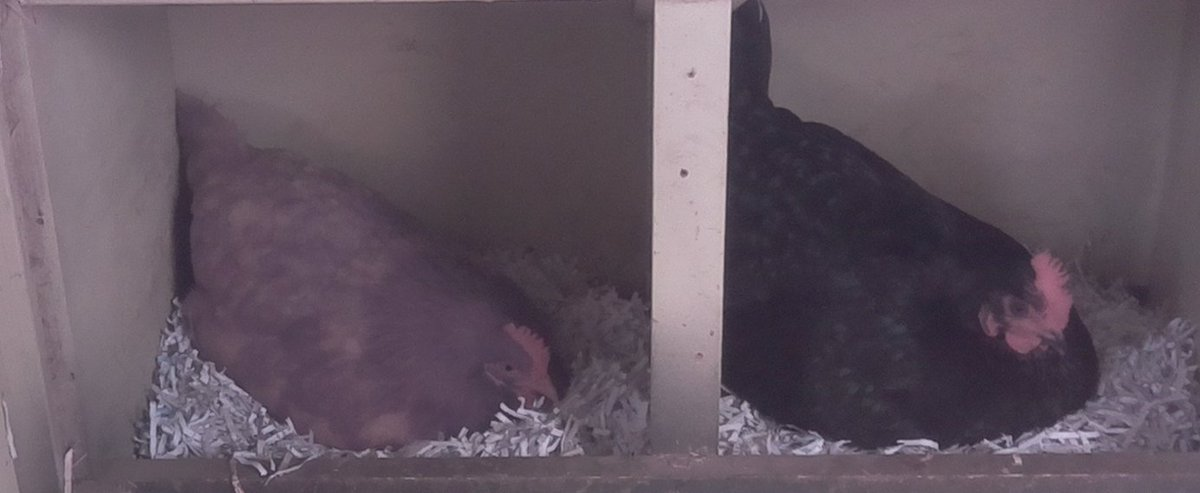hen: (173, 99, 576, 454), (730, 78, 1107, 447)
